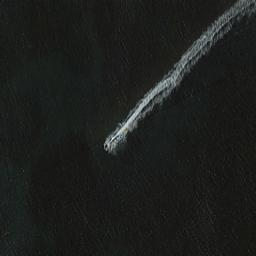boat: (102, 142, 108, 149)
